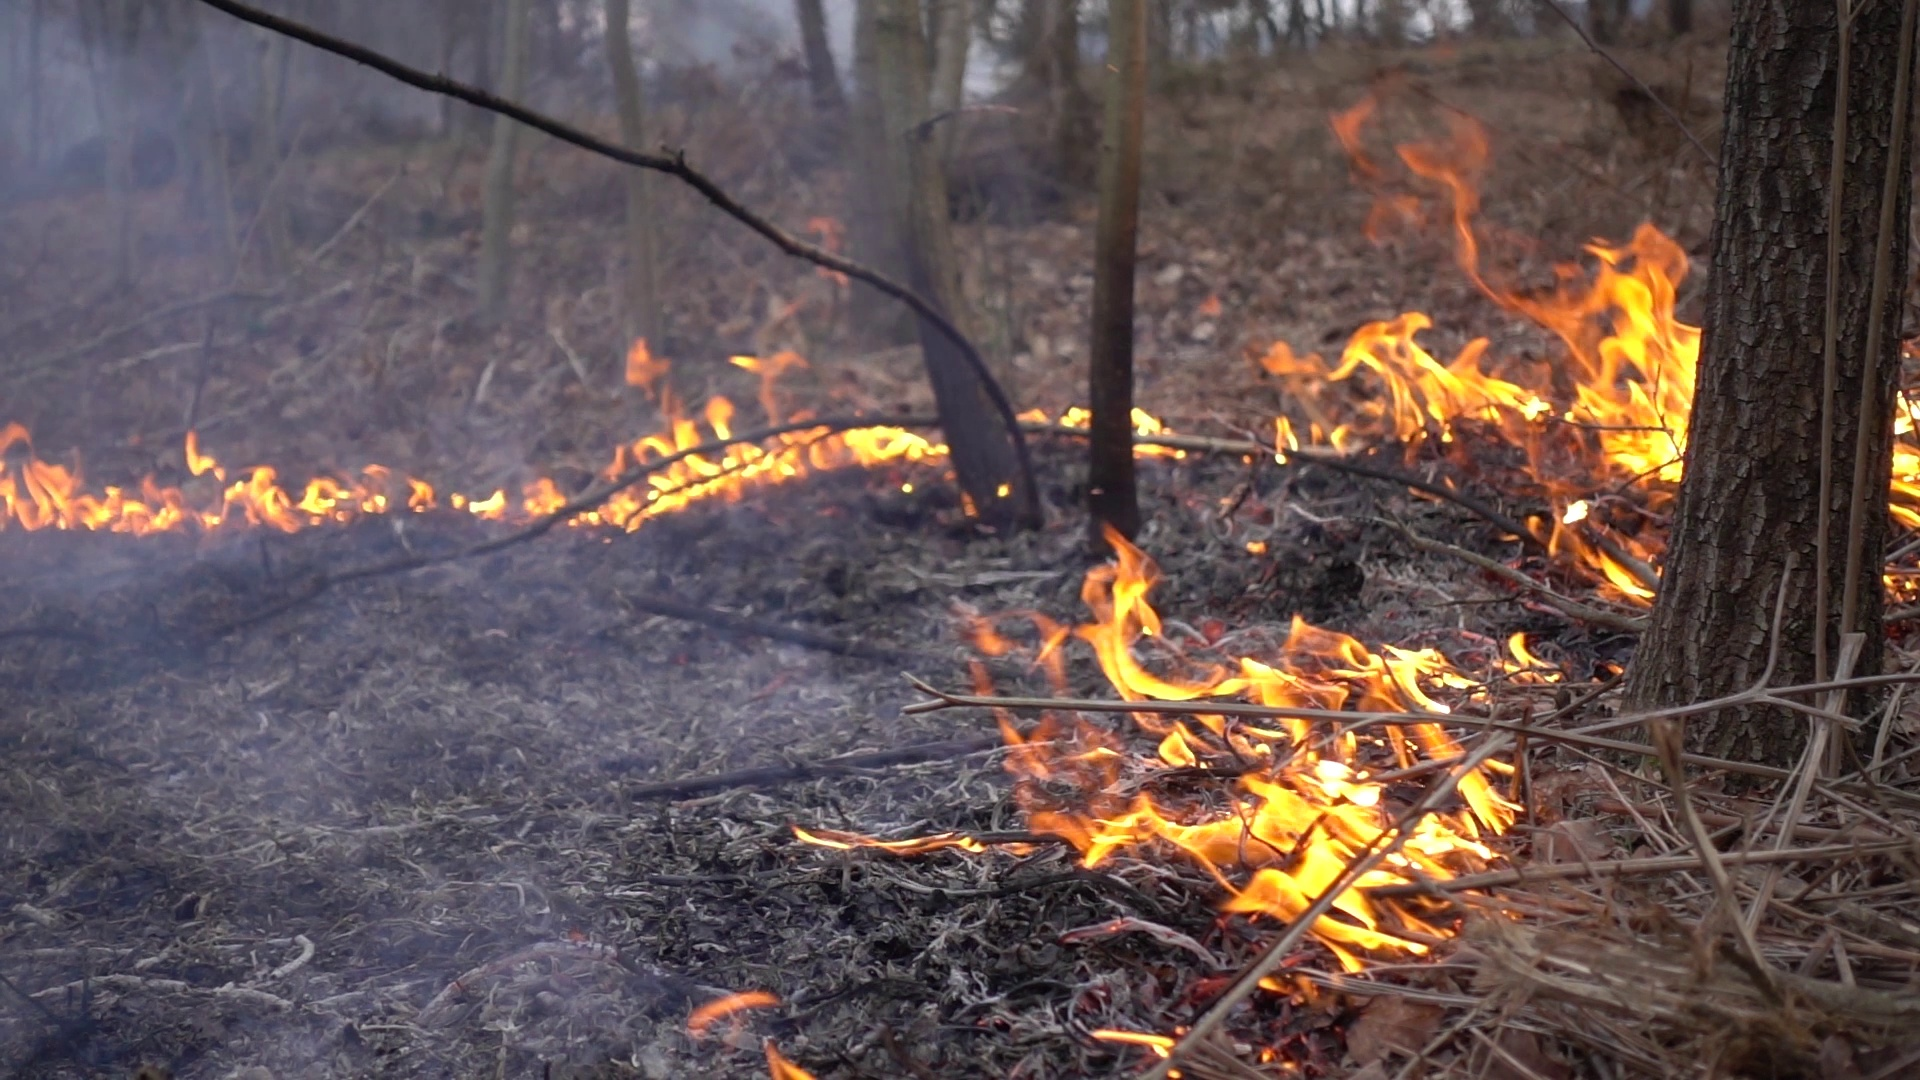fire: (977, 549, 1549, 943), (1279, 220, 1691, 473), (579, 410, 918, 524), (3, 472, 179, 527), (1892, 398, 1920, 530), (222, 469, 294, 520), (533, 483, 560, 516)
